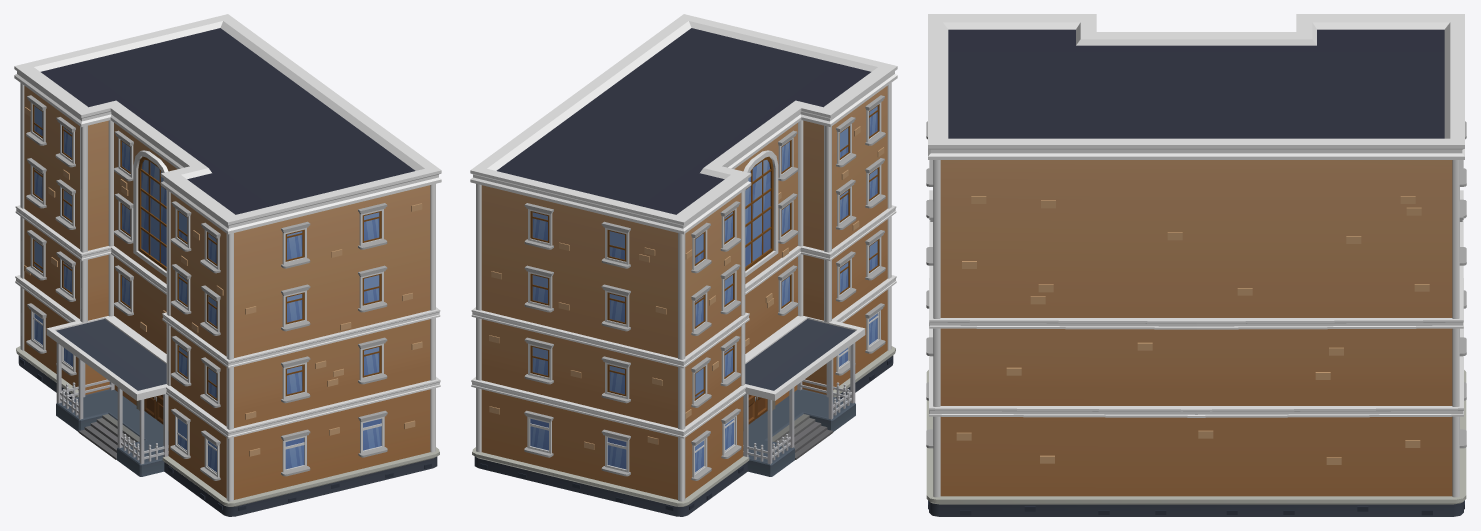
Rendered from Building_5_3_R.fbx.
3 renders of one model, left to right at view 1: azimuth 30°, elevation 25°; view 2: azimuth 150°, elevation 25°; view 3: azimuth 270°, elevation 25°, orthographic. The views are drawn at different scales.
Parts seen in each view (by area): view 1: Building_5_3_R; view 2: Building_5_3_R; view 3: Building_5_3_R.
Part boxes in pixels (x1,y1,x2,y2): Building_5_3_R: [14, 14, 441, 516]; Building_5_3_R: [470, 14, 897, 516]; Building_5_3_R: [926, 14, 1466, 516].
Bounding box in the file's own units: 1251 × 1450 × 1908.
